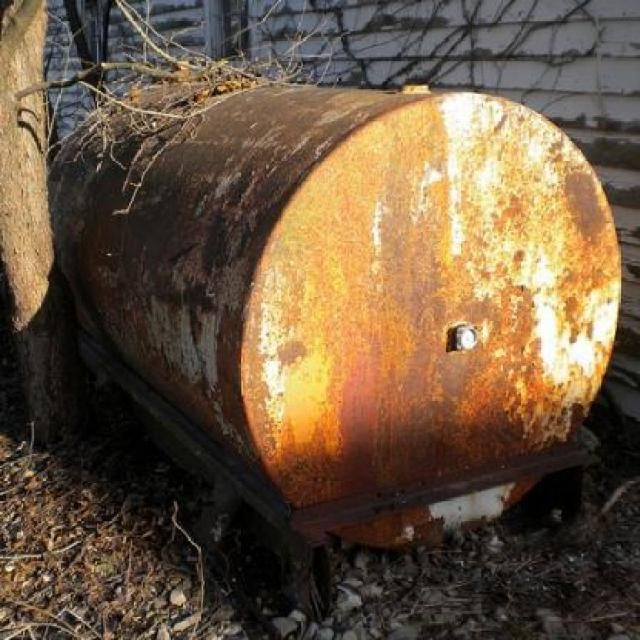corrosion: (50, 62, 621, 595)
